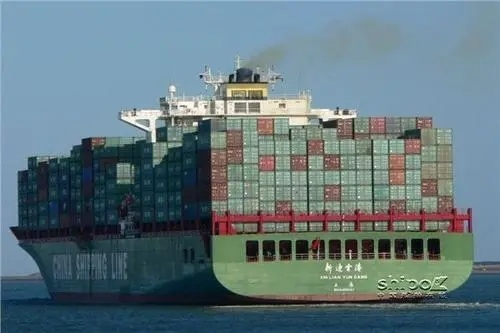Cargoship: (13, 61, 484, 301)
